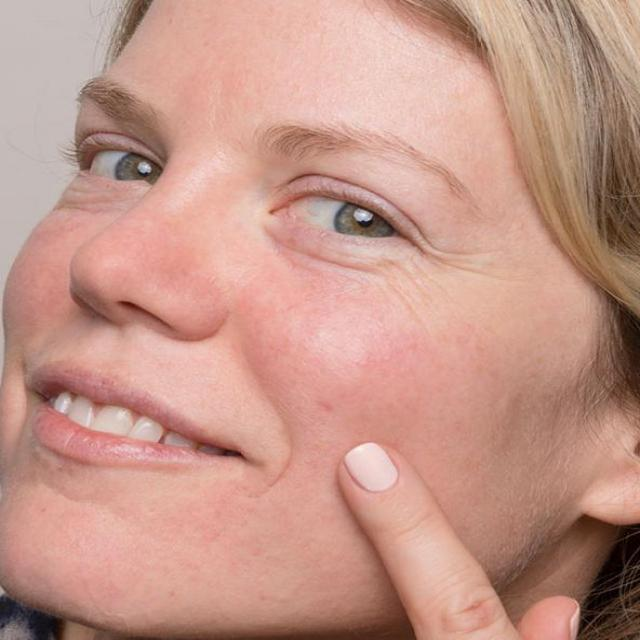blackheads: (319, 399, 335, 415)
